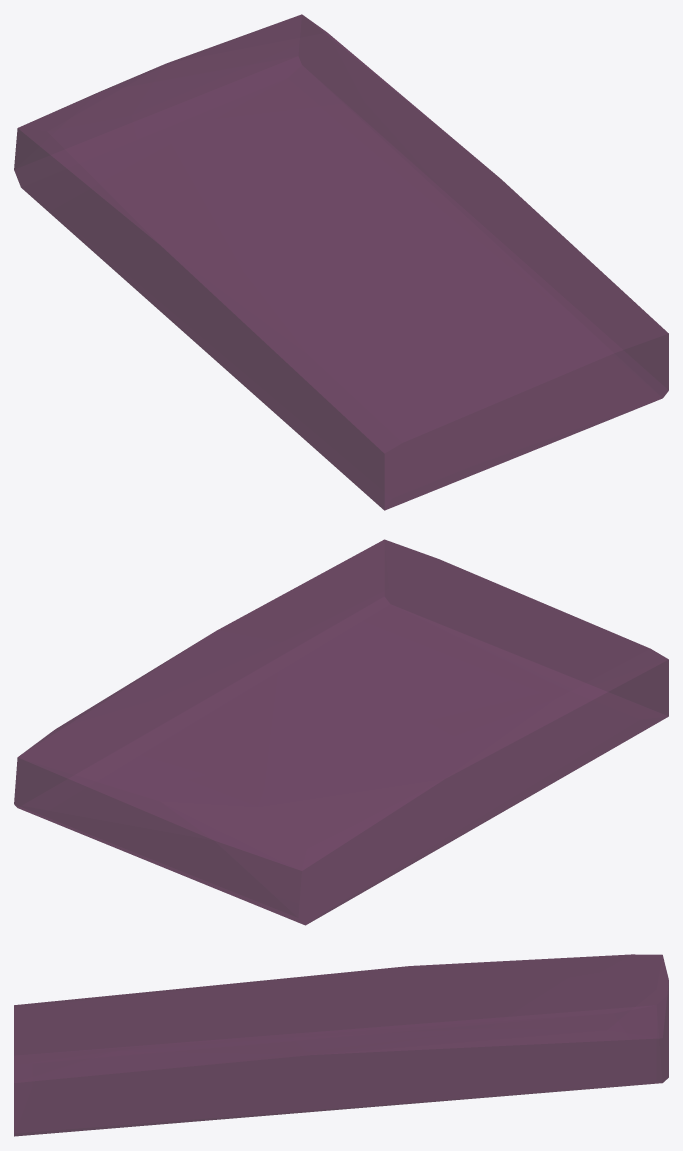
The picture shows the model from 3 angles, top to bottom: view 1: azimuth 30°, elevation 25°; view 2: azimuth 150°, elevation 25°; view 3: azimuth 270°, elevation 25°; orthographic projection. The views are drawn at different scales.
Parts seen in each view (by area): view 1: Shape_IndexedFaceSet.009_Shape_IndexedFaceSet.7615; view 2: Shape_IndexedFaceSet.009_Shape_IndexedFaceSet.7615; view 3: Shape_IndexedFaceSet.009_Shape_IndexedFaceSet.7615.
Part boxes in pixels (x1,y1,x2,y2): Shape_IndexedFaceSet.009_Shape_IndexedFaceSet.7615: [14, 14, 668, 510]; Shape_IndexedFaceSet.009_Shape_IndexedFaceSet.7615: [14, 539, 668, 925]; Shape_IndexedFaceSet.009_Shape_IndexedFaceSet.7615: [14, 954, 668, 1136].
Bounding box in the file's own units: 0.0961 × 0.0532 × 0.2167.
